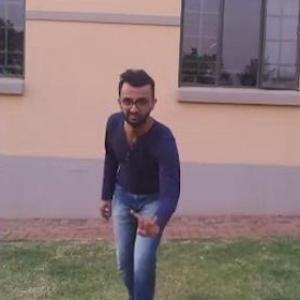takeoff-hand: (125, 205, 165, 243)
